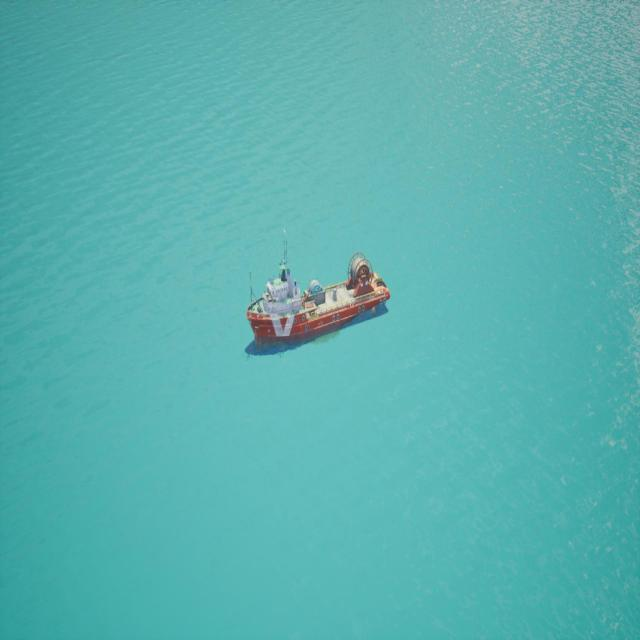tug boat: (247, 231, 390, 356)
